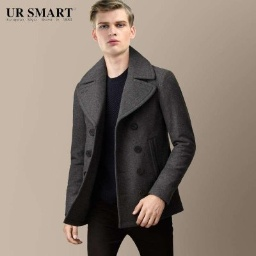face: (88, 1, 137, 57)
